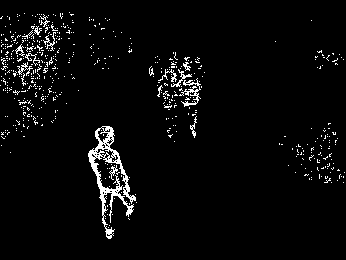person: (77, 121, 138, 241)
